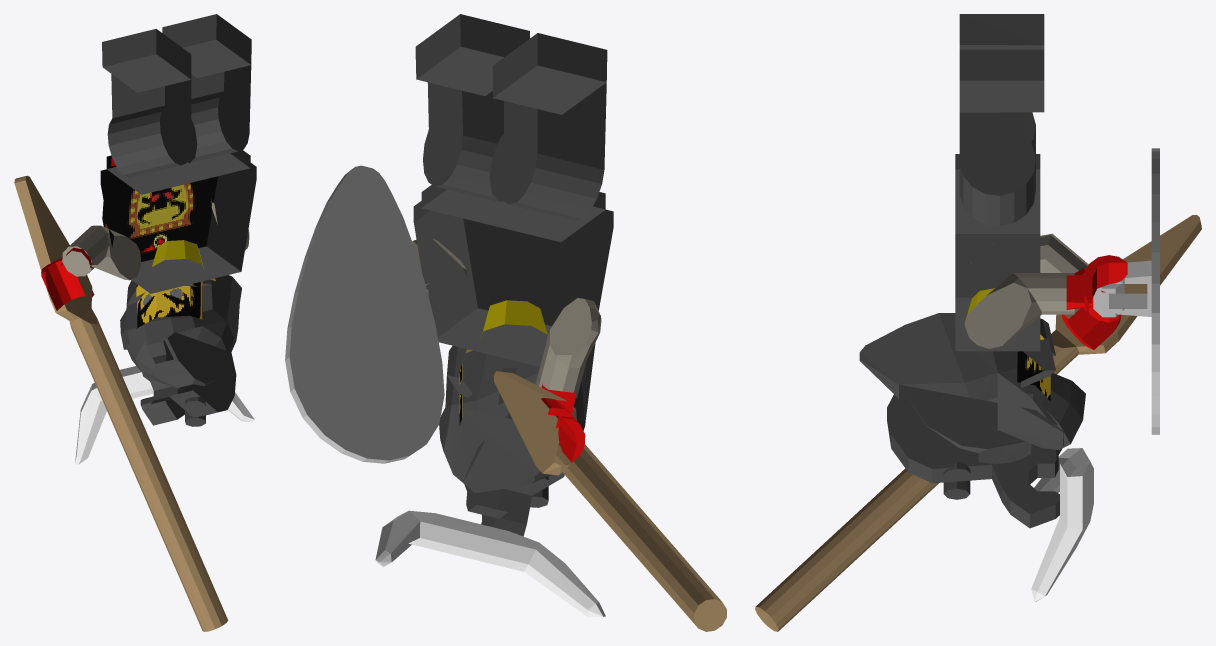
File: minifigcedricbull03.glb
The picture shows the model from 3 angles, left to right: view 1: azimuth 30°, elevation 25°; view 2: azimuth 150°, elevation 25°; view 3: azimuth 270°, elevation 25°; orthographic projection. The views are drawn at different scales.
Parts seen in each view (by area): view 1: 024_shape11, 033_shape17, 022_shape10, 019_shape8, 015_shape5, 021_shape9, 017_shape7, 029_shape15, 012_shape3, 026_shape13, 034_shape18; view 2: 041_shape22, 022_shape10, 024_shape11, 033_shape17, 019_shape8, 026_shape13, 015_shape5, 021_shape9, 017_shape7, 012_shape3, 029_shape15, 034_shape18; view 3: 024_shape11, 033_shape17, 015_shape5, 022_shape10, 017_shape7, 037_shape20, 041_shape22, 026_shape13, 021_shape9, 043_shape18, 012_shape3, 029_shape15 (+1 smaller).
Boxes of the visible parts, x1=… form: 024_shape11: x1=120, y1=240, x2=241, y2=426; 033_shape17: x1=14, y1=175, x2=228, y2=631; 022_shape10: x1=100, y1=163, x2=256, y2=293; 019_shape8: x1=107, y1=74, x2=191, y2=177; 015_shape5: x1=186, y1=65, x2=251, y2=163; 021_shape9: x1=102, y1=29, x2=191, y2=92; 017_shape7: x1=162, y1=14, x2=251, y2=77; 029_shape15: x1=62, y1=225, x2=141, y2=280; 012_shape3: x1=106, y1=119, x2=250, y2=194; 026_shape13: x1=75, y1=366, x2=254, y2=464; 034_shape18: x1=41, y1=247, x2=94, y2=310; 041_shape22: x1=285, y1=165, x2=444, y2=463; 022_shape10: x1=413, y1=201, x2=613, y2=366; 024_shape11: x1=439, y1=300, x2=595, y2=536; 033_shape17: x1=493, y1=371, x2=726, y2=631; 019_shape8: x1=497, y1=71, x2=606, y2=220; 026_shape13: x1=375, y1=510, x2=605, y2=617; 015_shape5: x1=423, y1=46, x2=503, y2=202; 021_shape9: x1=493, y1=33, x2=607, y2=114; 017_shape7: x1=415, y1=14, x2=529, y2=95; 012_shape3: x1=421, y1=134, x2=605, y2=242; 029_shape15: x1=535, y1=298, x2=601, y2=398; 034_shape18: x1=541, y1=384, x2=585, y2=462; 024_shape11: x1=859, y1=288, x2=1085, y2=528; 033_shape17: x1=755, y1=215, x2=1201, y2=631; 015_shape5: x1=959, y1=112, x2=1035, y2=226; 022_shape10: x1=955, y1=234, x2=1040, y2=351; 017_shape7: x1=959, y1=49, x2=1044, y2=112; 037_shape20: x1=964, y1=273, x2=1074, y2=348; 041_shape22: x1=1093, y1=148, x2=1159, y2=434; 026_shape13: x1=1031, y1=448, x2=1093, y2=601; 021_shape9: x1=959, y1=14, x2=1044, y2=49; 043_shape18: x1=1066, y1=255, x2=1127, y2=322; 012_shape3: x1=955, y1=133, x2=1040, y2=233; 029_shape15: x1=971, y1=233, x2=1088, y2=274.
Size of the model in its own units: 2.66 by 6.42 by 4.22.
11 materials, 4 textured.
